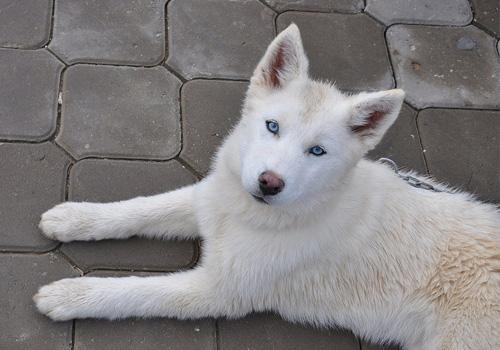husky: (23, 18, 420, 330)
